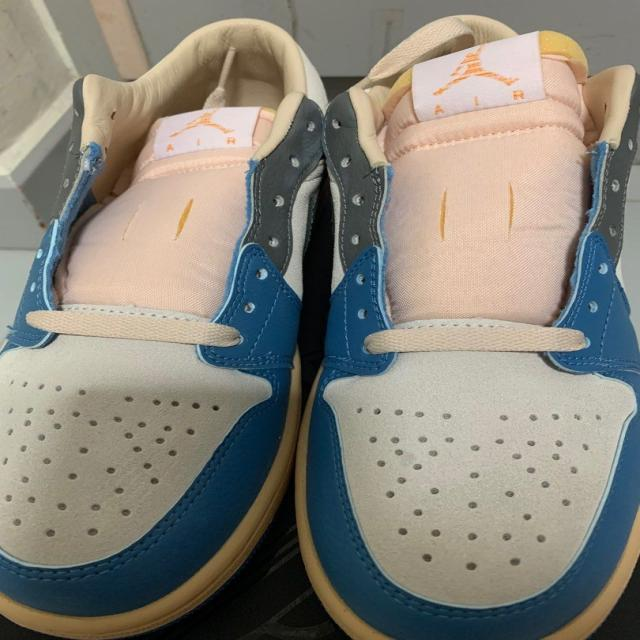nike original jordan 1: (293, 0, 640, 640), (0, 0, 330, 640)
